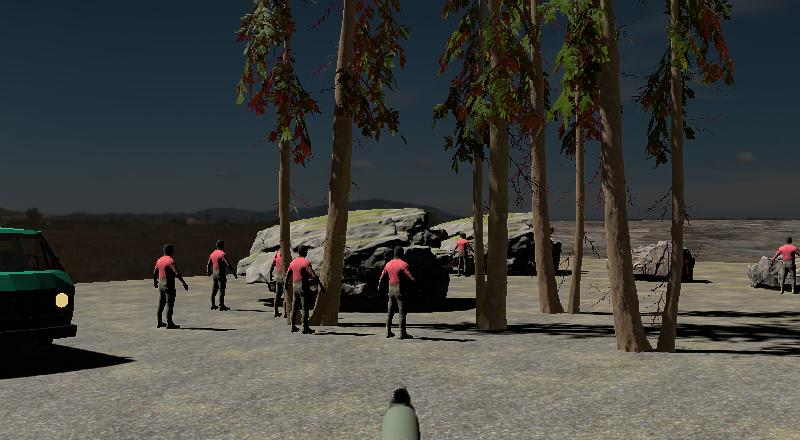Human: (376, 245, 422, 339), (376, 248, 422, 338), (284, 244, 323, 334), (154, 243, 188, 329), (207, 238, 236, 312), (769, 235, 800, 296), (268, 241, 289, 318), (453, 231, 474, 278)
car: (0, 225, 77, 367)
